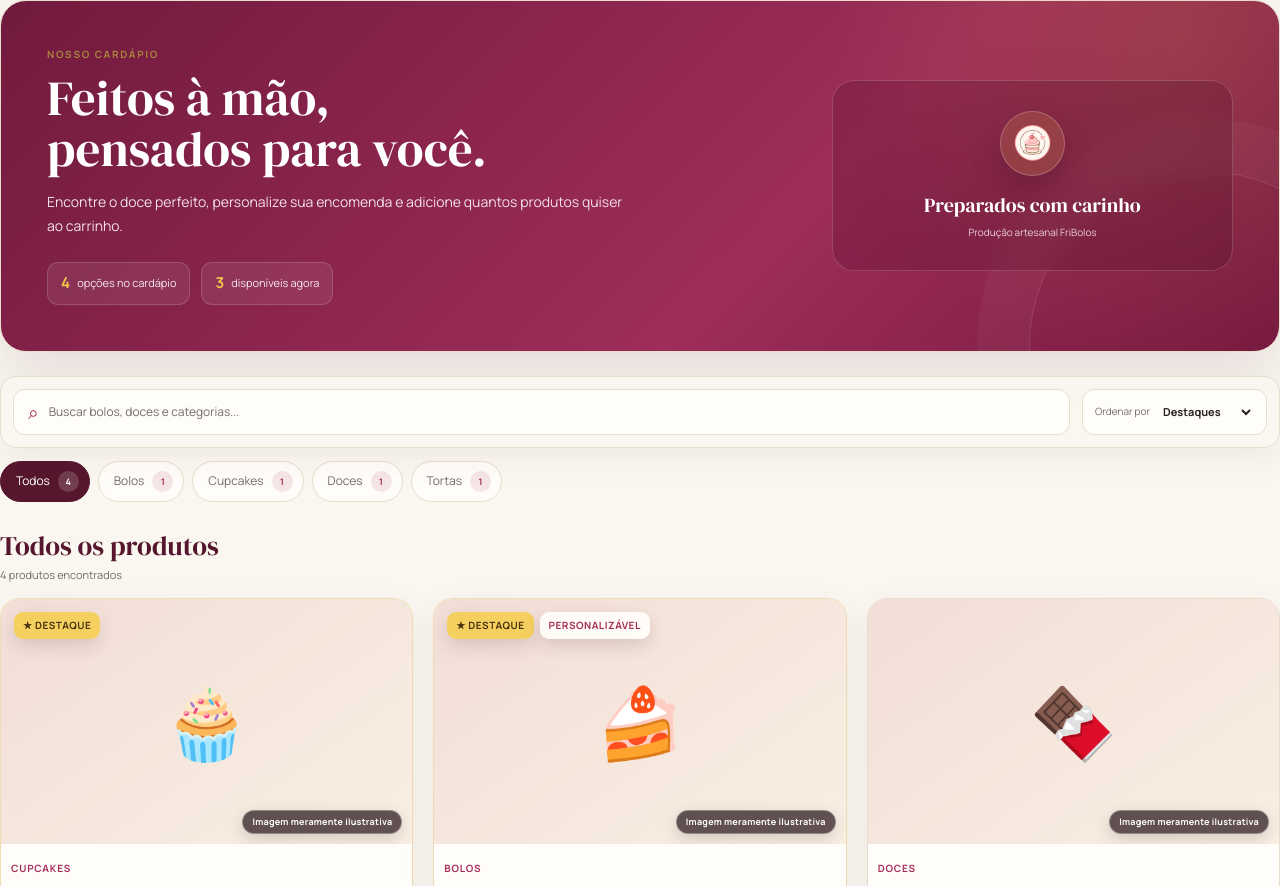
Test: ClientCatalog - busca e filtros › limpa somente o texto pelo botão da busca
Type "brigadeiro" into the search field at point(552, 412), box [49, 403, 1055, 421]
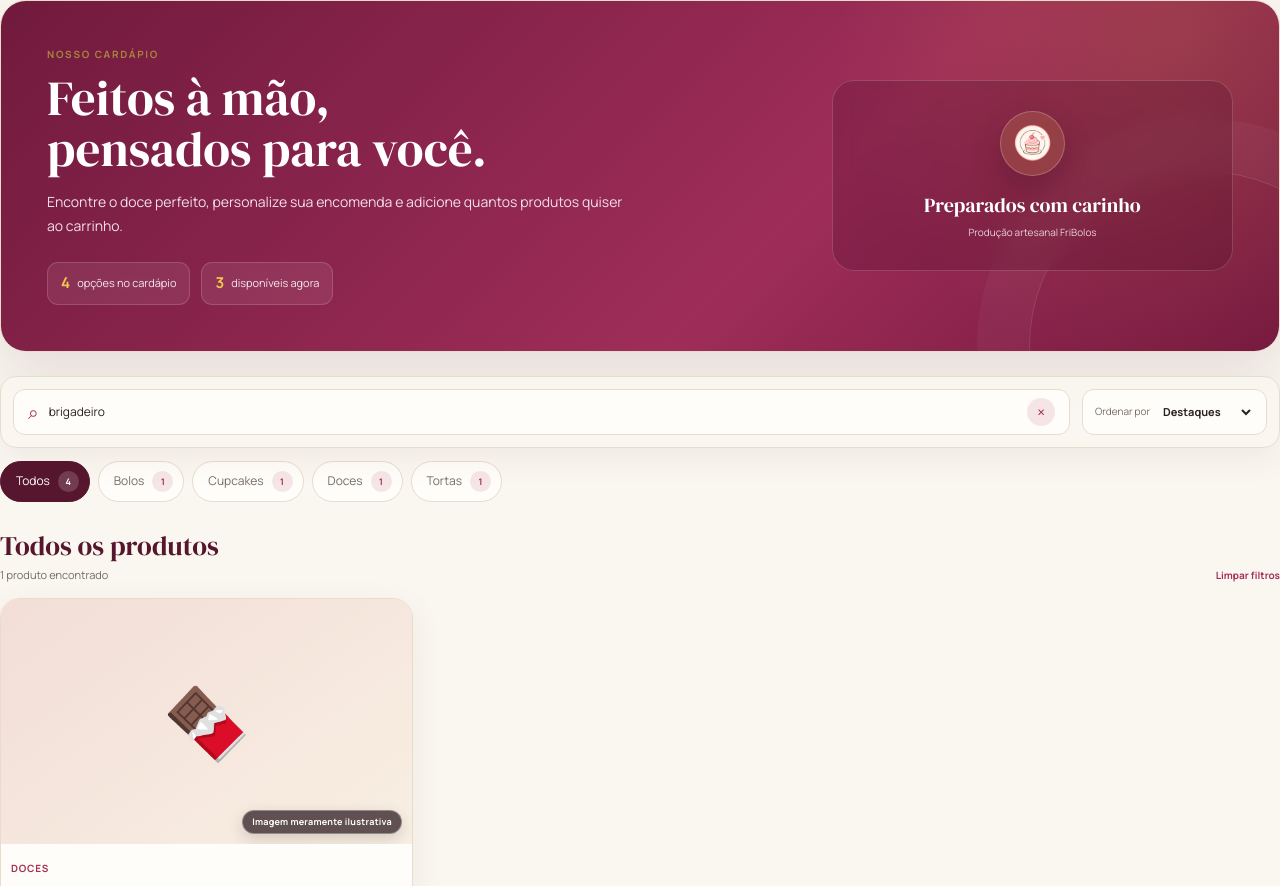
Click the button named "Limpar busca" at point(1041, 412), box [1027, 398, 1055, 426]
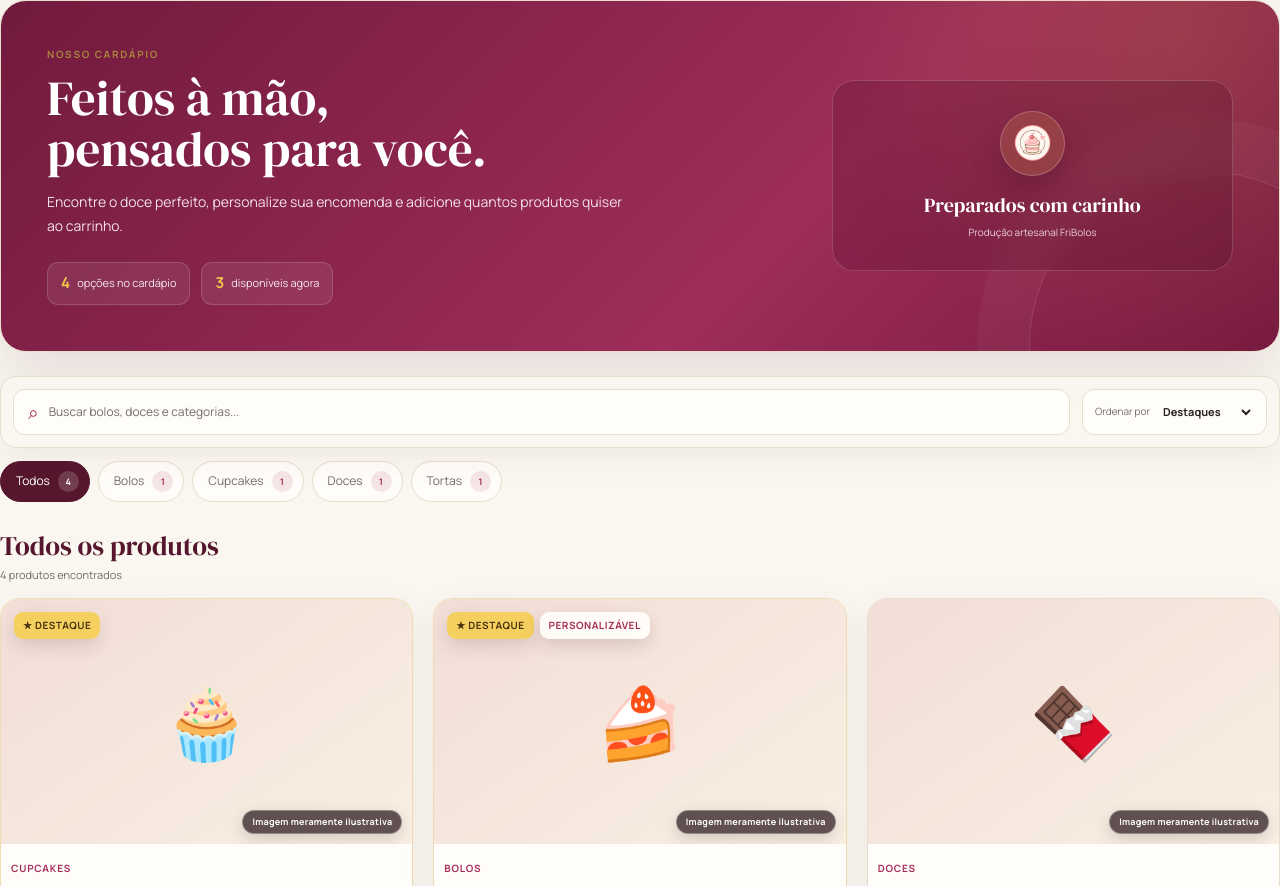
Expected: the search field is empty, [49, 403, 1055, 421]
